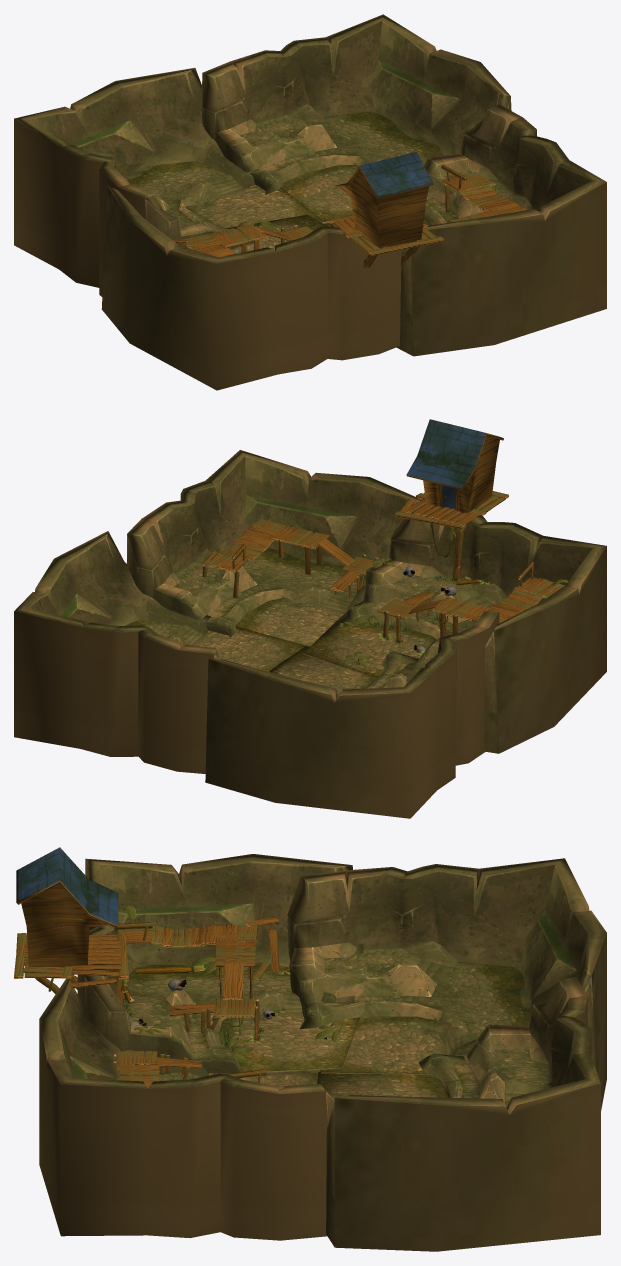
File: MyGameStage.fbx
3 renders of one model, top to bottom at view 1: azimuth 30°, elevation 25°; view 2: azimuth 150°, elevation 25°; view 3: azimuth 270°, elevation 25°, orthographic. The views are drawn at different scales.
Parts seen in each view (by area): view 1: Sketchfab_model_c0ec2f9e55834f34a3ddc627524b49a7.fbx_RootNod; view 2: Sketchfab_model_c0ec2f9e55834f34a3ddc627524b49a7.fbx_RootNod; view 3: Sketchfab_model_c0ec2f9e55834f34a3ddc627524b49a7.fbx_RootNod.
Boxes of the visible parts, <box> form: Sketchfab_model_c0ec2f9e55834f34a3ddc627524b49a7.fbx_RootNod: <box>14,14,606,390</box>; Sketchfab_model_c0ec2f9e55834f34a3ddc627524b49a7.fbx_RootNod: <box>14,419,606,818</box>; Sketchfab_model_c0ec2f9e55834f34a3ddc627524b49a7.fbx_RootNod: <box>14,847,606,1251</box>.
Size of the model in its own units: 353 by 161 by 354.
